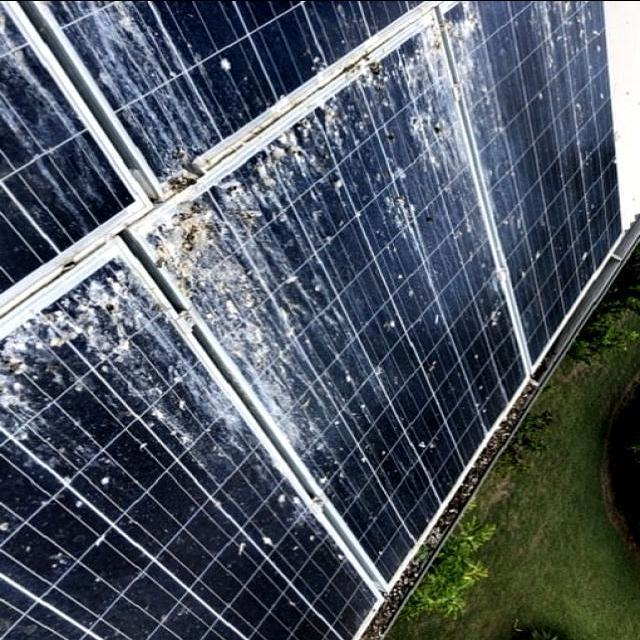soiled: (0, 1, 600, 609)
